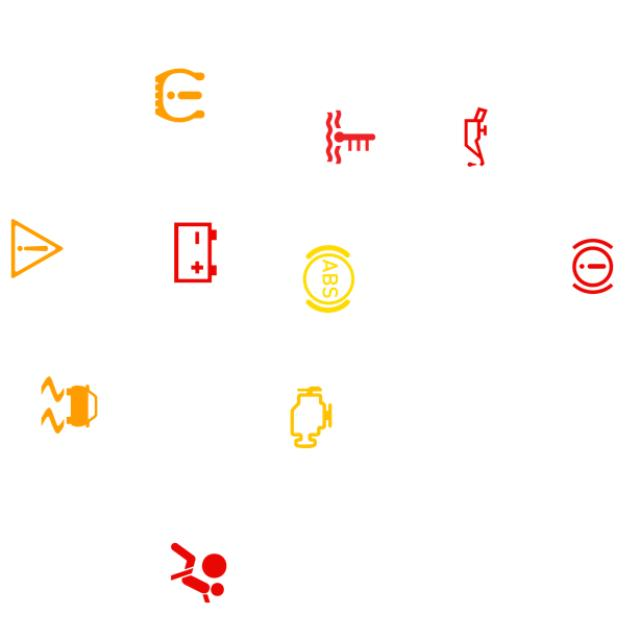Anti Lock Braking System: (292, 242, 366, 316)
Braking System Issue: (556, 230, 630, 304)
Charging System Issue: (158, 216, 232, 290)
Check Engine: (274, 380, 348, 454)
Electronic Stability Problem -ESP-: (32, 368, 106, 442)
Engine Overheating Warning Light: (314, 100, 388, 174)
Low Engine Oil Warning Light: (439, 100, 513, 174)
Low Tire Pressure Warning Light: (143, 59, 217, 132)
Master warning light: (0, 212, 74, 286)
SRS-Airbag: (162, 536, 236, 610)
